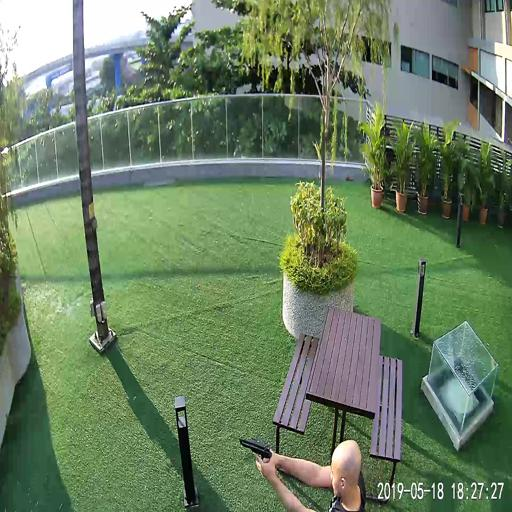pistol: (238, 435, 272, 474)
